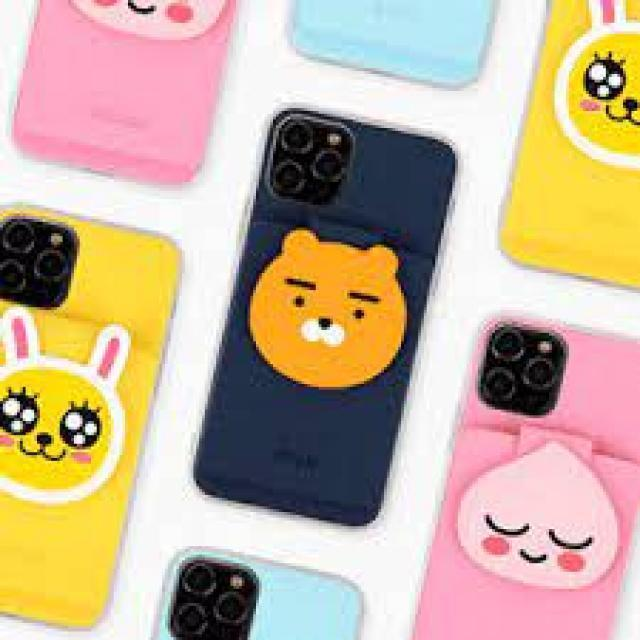lens: (480, 319, 565, 413), (269, 114, 354, 201), (168, 558, 258, 640), (0, 218, 78, 306)
phone: (189, 102, 459, 528), (0, 203, 184, 630), (410, 315, 640, 640), (10, 0, 238, 185), (154, 550, 363, 639)
